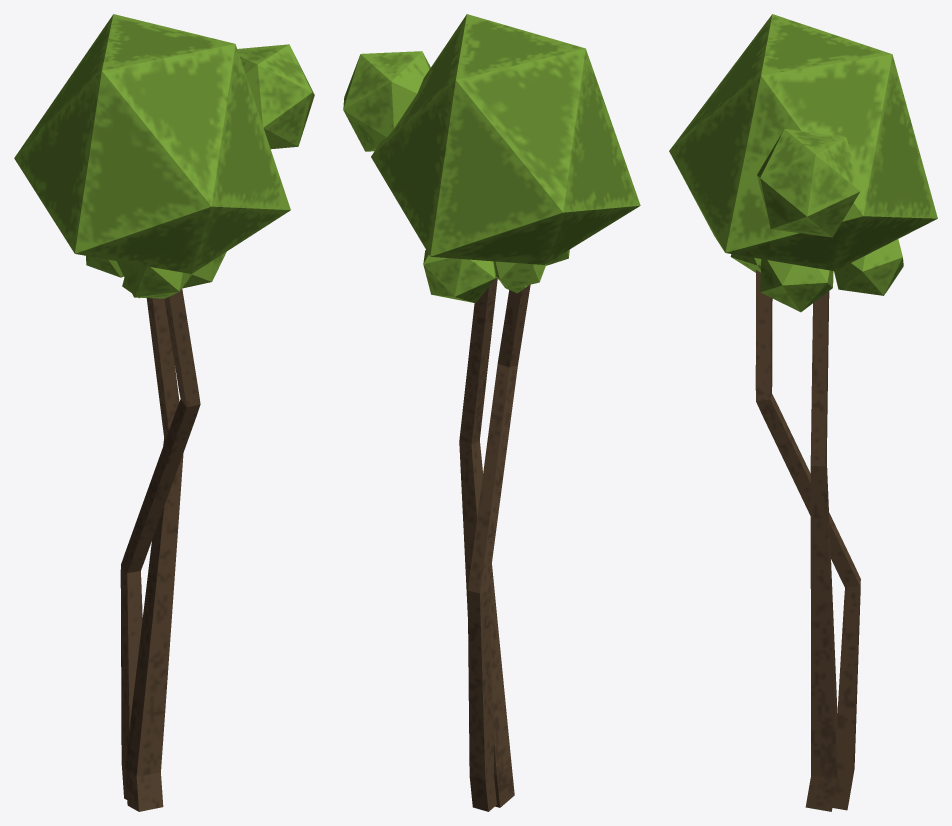
Rendered from SM_Tree_Forest_04.fbx.
The picture shows the model from 3 angles, left to right: view 1: azimuth 30°, elevation 25°; view 2: azimuth 150°, elevation 25°; view 3: azimuth 270°, elevation 25°; orthographic projection. The views are drawn at different scales.
Visible parts, largest first — view 1: Icosphere.039; view 2: Icosphere.039; view 3: Icosphere.039.
Boxes of the visible parts, x1,y1,x2,y2 form: Icosphere.039: (14, 14, 314, 811); Icosphere.039: (343, 14, 640, 811); Icosphere.039: (669, 14, 937, 811).
Size of the model in its own units: 96.58 by 261 by 83.89.
Materials: 1 (1 with a texture image).
